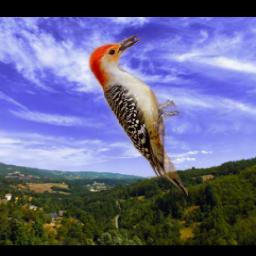Woodpecker: (88, 34, 188, 198)
